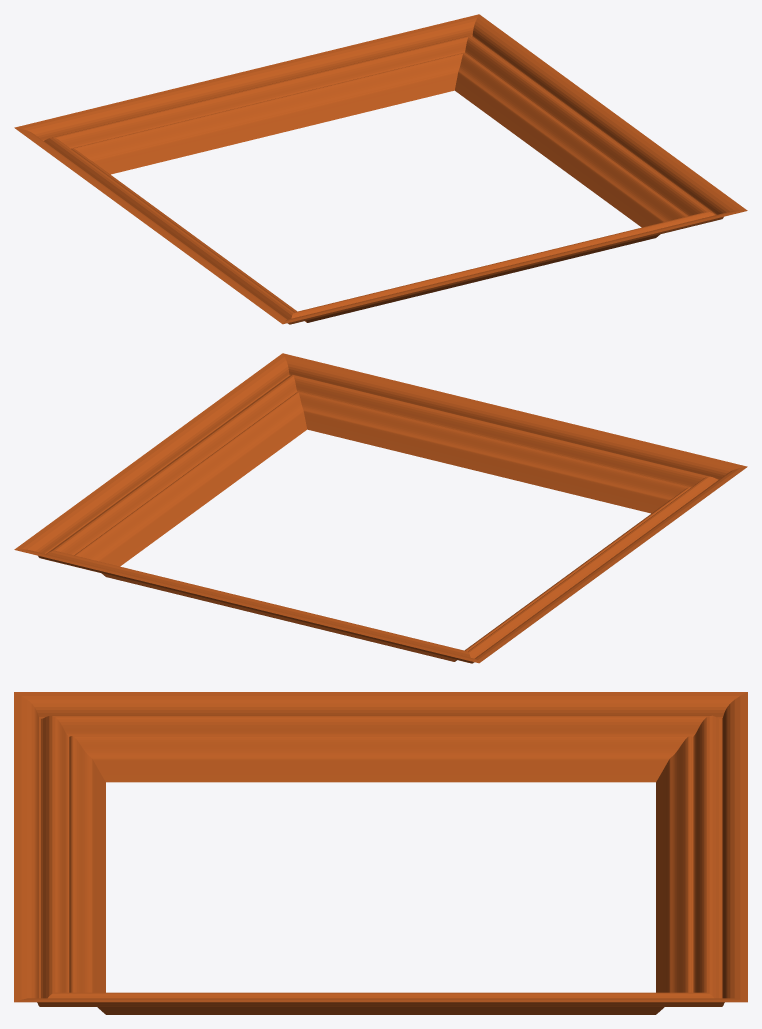
The model's file is picture frame.fbx.
The picture shows the model from 3 angles, top to bottom: view 1: azimuth 30°, elevation 25°; view 2: azimuth 150°, elevation 25°; view 3: azimuth 270°, elevation 25°; orthographic projection. The views are drawn at different scales.
Visible parts, largest first — view 1: 平面; view 2: 平面; view 3: 平面.
Part boxes in pixels (bbox=[...]): 平面: bbox=[14, 14, 747, 324]; 平面: bbox=[14, 353, 747, 663]; 平面: bbox=[14, 692, 747, 1014].
Size of the model in its own units: 374 by 28.88 by 374.
